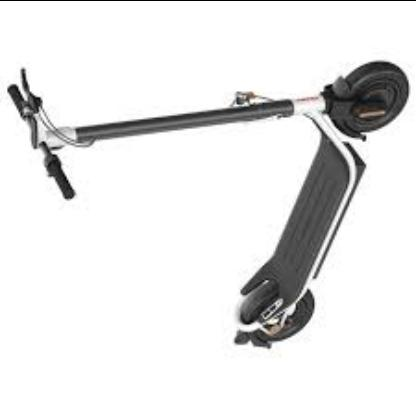bike: (10, 60, 410, 349)
